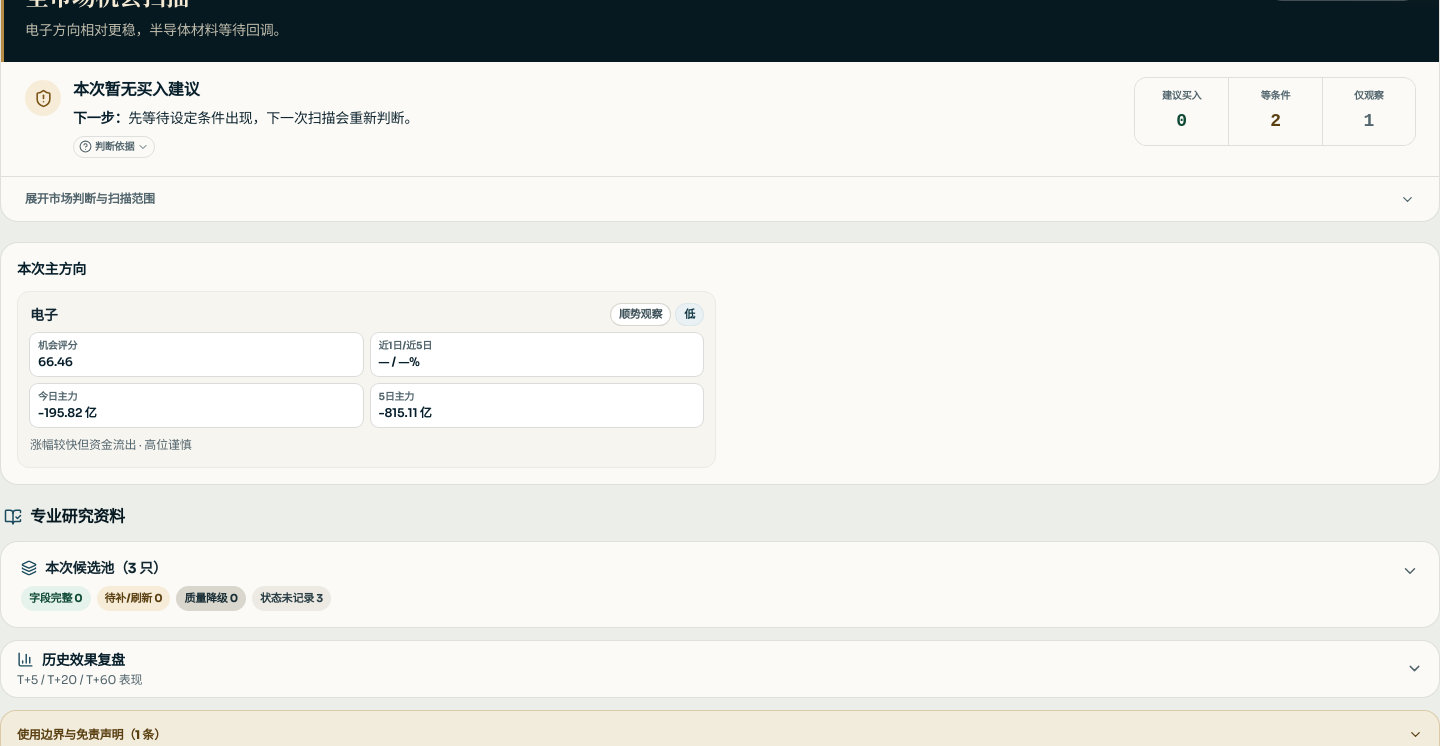
Test: DiscoveryReportPanel › classifies the broad candidate pool with deterministic wait and watch reasons
Expected: the text "0" is shown, top-left (1176, 111), bottom-right (1187, 131)
Expected: the text "2" is shown, top-left (1270, 111), bottom-right (1281, 131)
Click the button "本次候选池（3 只） 字段完整 0 待补/刷新 0 质量降级 0 状态未记录 3".
click(86, 568)  # box top-left (1, 542), bottom-right (1439, 627)
(page scrolled)
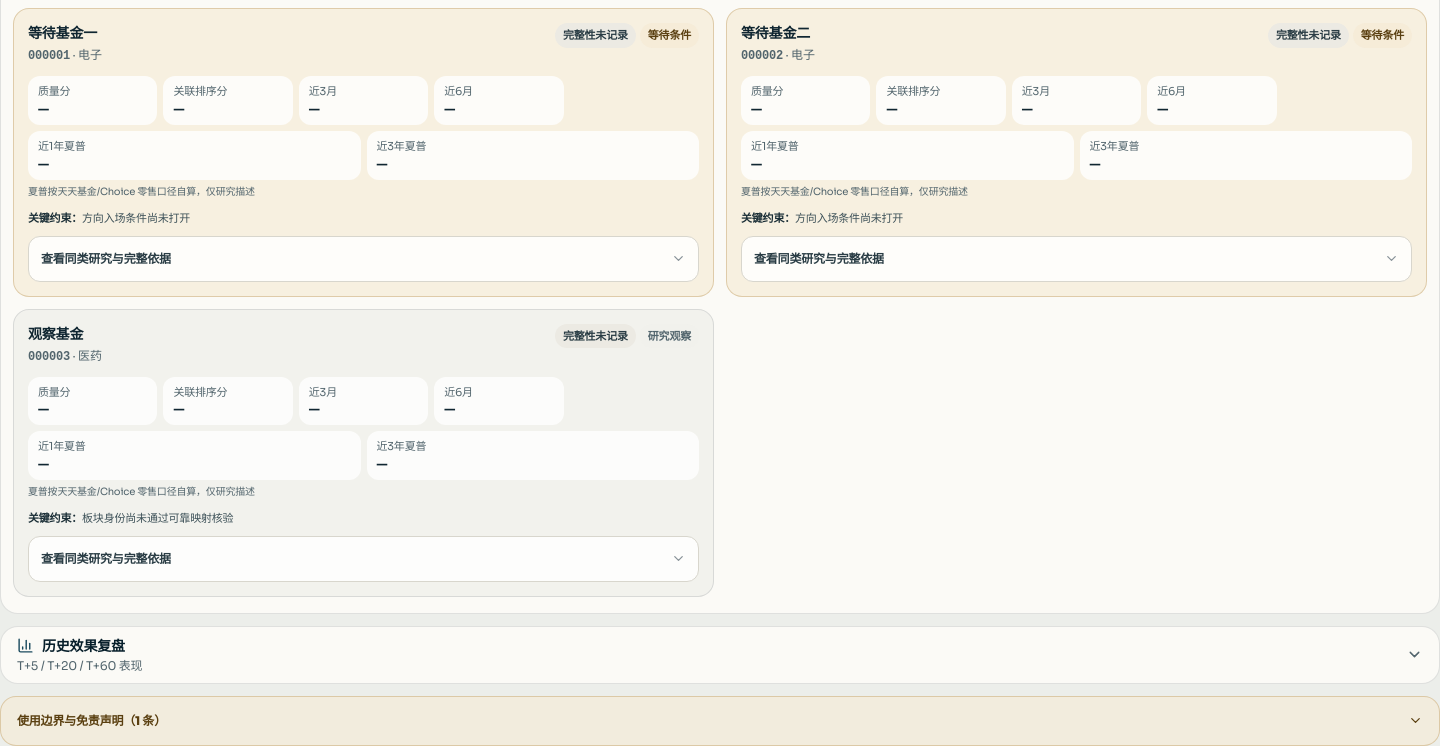
Now the number of elements "等待条件" is 2, box top-left (13, 8), bottom-right (714, 297); top-left (726, 8), bottom-right (1427, 297)
Now the element "研究观察" shows "板块身份尚未通过可靠映射核验", box top-left (82, 511), bottom-right (233, 525)
